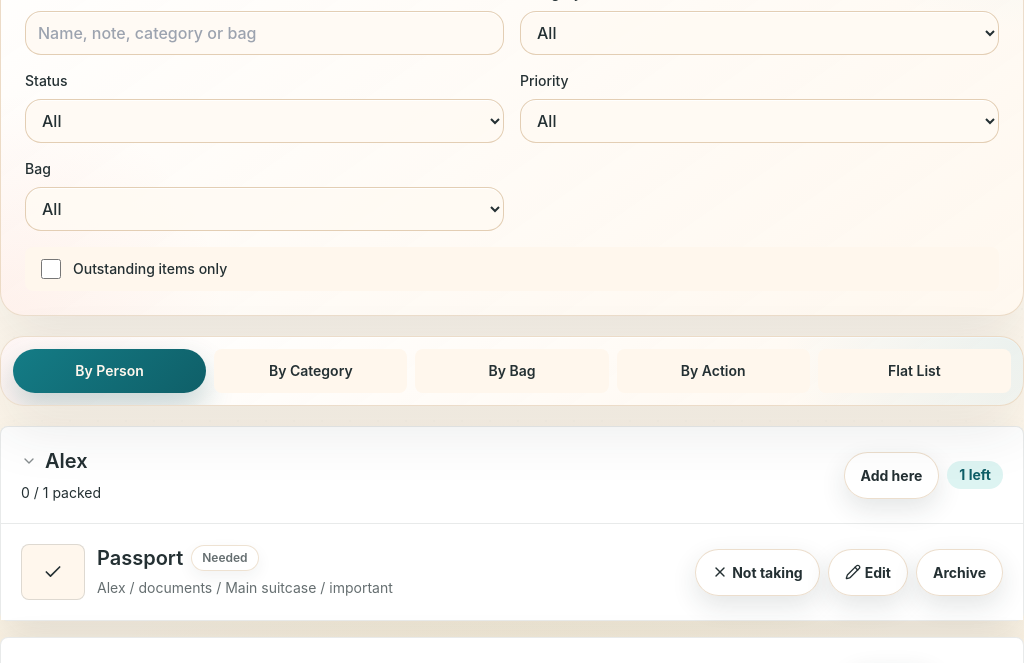
PackingListScreen › switches between pack view modes
(page scrolled)
Expected: the heading "Alex" is shown, [45,447,88,475]
Click the button "By Category" at point(311, 371), box [214,349,407,393]
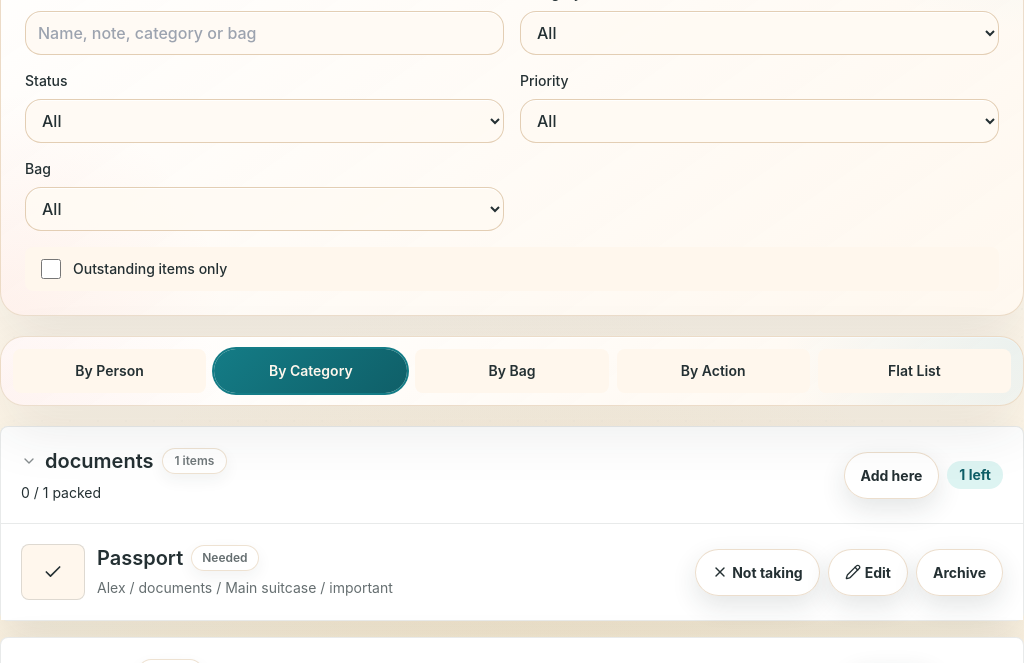
Expected: the heading "documents" is shown, [45,447,154,475]
Click the button "By Bag" at point(512, 371), box [415,349,609,393]
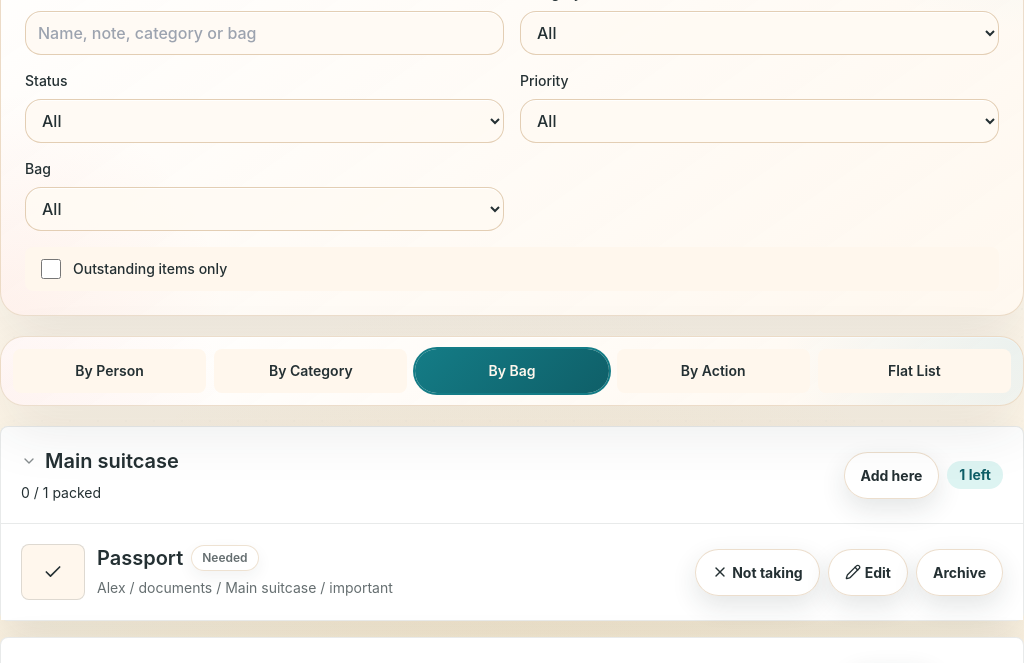
Expected: the heading "Main suitcase" is shown, [45,447,179,475]
Click the button "By Action" at point(713, 371), box [617,349,810,393]
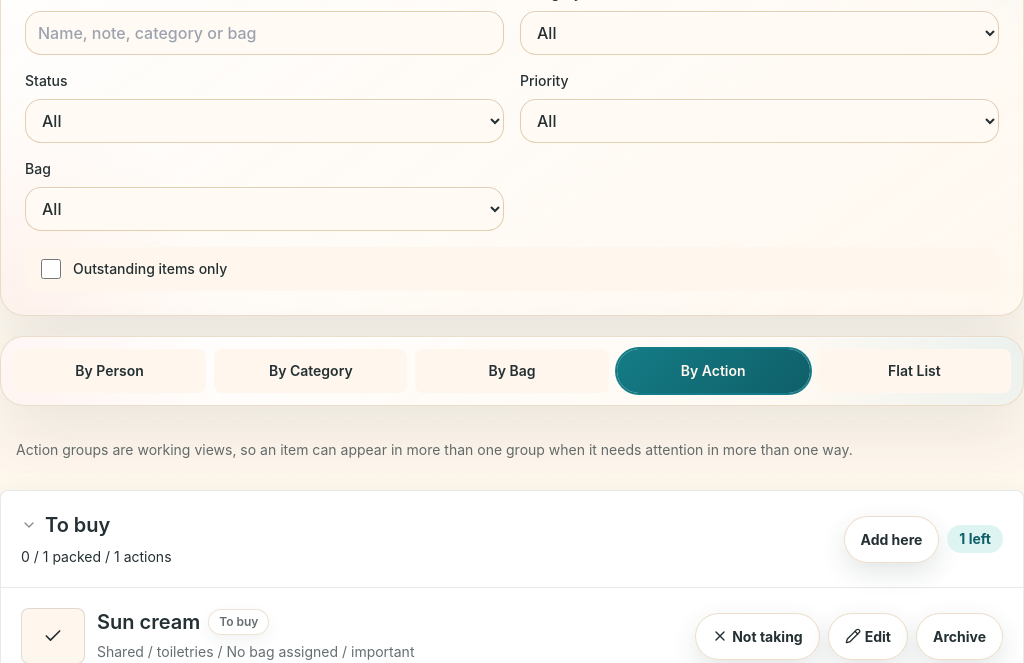
Expected: the heading "To buy" is shown, [45,511,110,539]
Click the button "Flat List" at point(914, 371), box [818,349,1011,393]
(page scrolled)
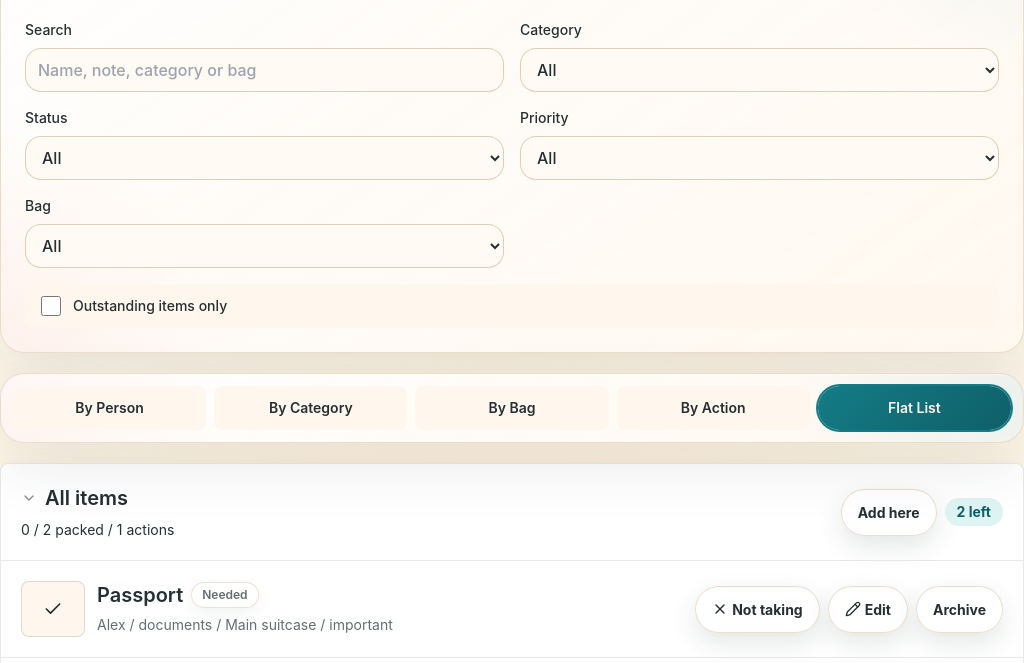
Expected: the heading "All items" is shown, [45,484,128,512]
